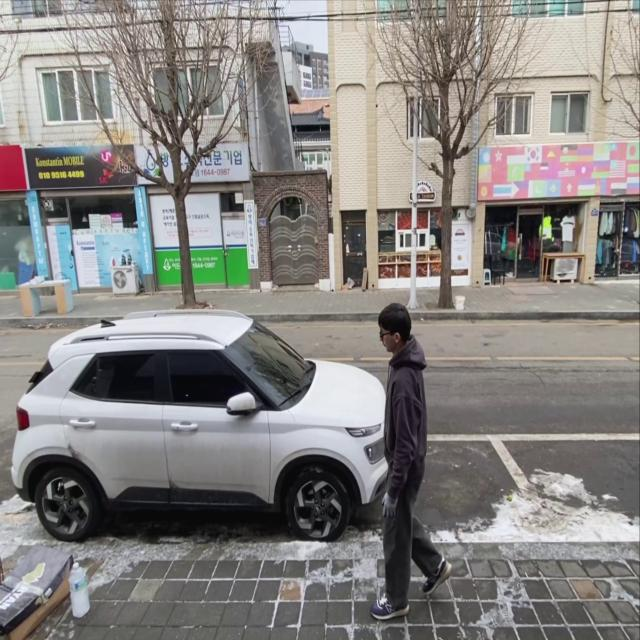gloved_hand: (376, 488, 403, 519)
